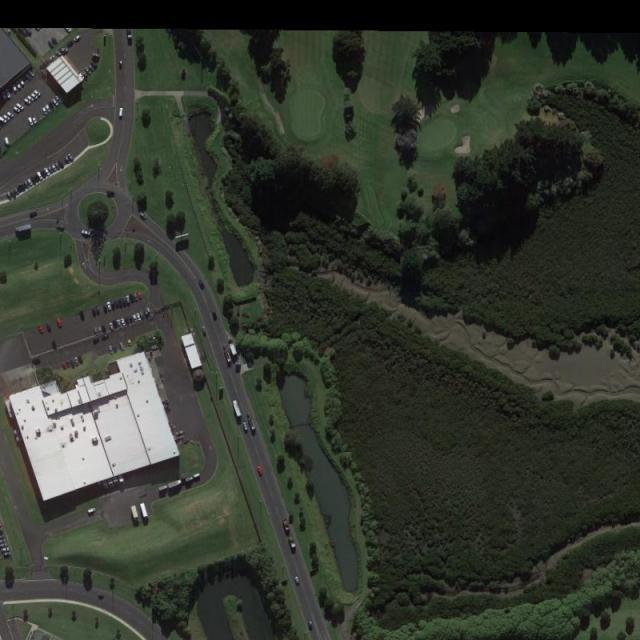vehicle: (226, 335, 240, 359), (230, 398, 242, 421), (245, 411, 257, 434), (287, 536, 297, 551), (284, 518, 292, 536), (255, 463, 263, 478), (242, 420, 250, 434), (307, 619, 314, 633), (198, 279, 206, 291), (79, 310, 86, 322), (174, 430, 186, 437), (293, 574, 300, 586), (46, 322, 53, 333), (59, 46, 70, 53), (38, 325, 46, 334), (23, 71, 31, 80), (16, 102, 25, 110), (2, 551, 12, 558), (27, 116, 34, 126), (202, 325, 208, 336), (2, 91, 8, 102), (132, 291, 138, 302), (140, 211, 148, 219), (30, 210, 38, 218), (81, 230, 90, 237), (47, 40, 54, 49), (85, 66, 92, 75), (19, 183, 26, 192), (42, 106, 47, 118), (57, 318, 63, 328), (118, 106, 123, 118), (86, 508, 96, 514), (6, 88, 12, 98), (27, 176, 33, 186), (102, 302, 107, 314), (50, 37, 58, 44), (7, 110, 14, 118), (90, 62, 98, 69), (91, 306, 96, 317), (55, 224, 64, 230), (47, 55, 56, 61), (55, 161, 61, 170), (44, 167, 50, 176), (40, 170, 46, 179), (10, 190, 16, 199), (6, 191, 12, 200), (119, 341, 125, 350), (37, 170, 42, 180), (31, 175, 36, 185), (106, 300, 111, 310), (62, 361, 67, 371), (1, 542, 8, 549), (74, 35, 81, 42), (34, 89, 41, 96), (31, 93, 38, 100), (27, 95, 34, 102), (13, 106, 20, 113), (212, 312, 218, 320), (118, 58, 122, 70), (19, 78, 25, 86), (52, 98, 58, 106), (55, 95, 61, 103), (93, 52, 101, 58), (64, 156, 70, 164), (34, 174, 40, 182), (24, 181, 30, 189), (17, 186, 23, 194), (14, 187, 20, 195), (96, 304, 100, 316), (51, 163, 56, 172), (110, 301, 115, 310), (122, 297, 127, 306), (129, 294, 134, 303), (138, 291, 143, 300), (109, 322, 114, 331), (117, 319, 122, 328), (109, 345, 114, 354), (74, 357, 79, 366), (119, 298, 123, 309), (126, 294, 130, 305), (70, 358, 74, 369), (25, 28, 31, 35), (55, 50, 62, 56), (3, 114, 10, 120), (68, 154, 74, 161), (48, 166, 53, 174), (121, 318, 126, 326), (133, 314, 138, 322), (136, 314, 141, 322), (127, 338, 132, 346), (1, 547, 10, 551), (24, 98, 30, 104), (5, 137, 9, 146), (115, 299, 119, 308), (94, 326, 98, 335), (29, 70, 34, 77), (1, 116, 6, 123), (32, 116, 37, 123), (13, 83, 17, 91), (46, 104, 50, 112), (98, 326, 102, 334), (66, 27, 71, 33), (16, 82, 21, 88), (89, 66, 94, 71)
